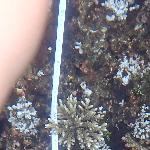dead: (1, 1, 146, 148)
